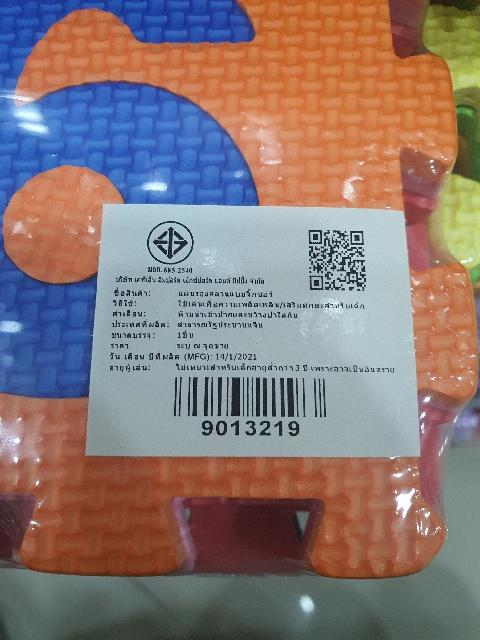Barcode: (162, 371, 339, 437)
